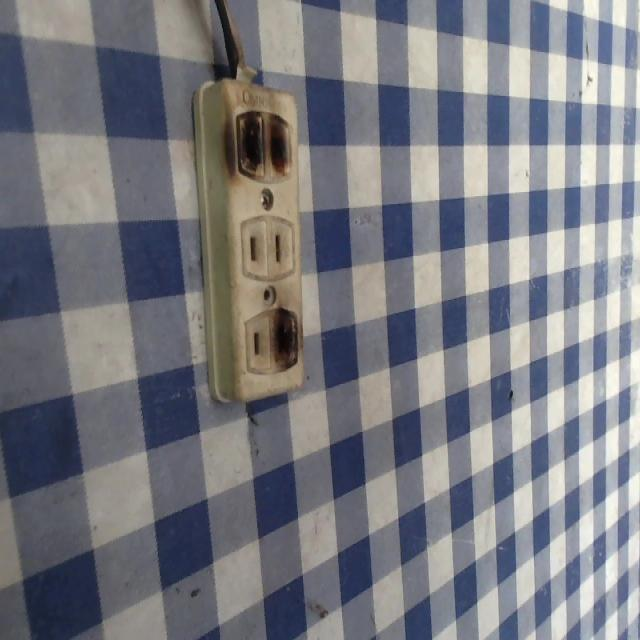-: (226, 96, 299, 184), (268, 303, 309, 381)
